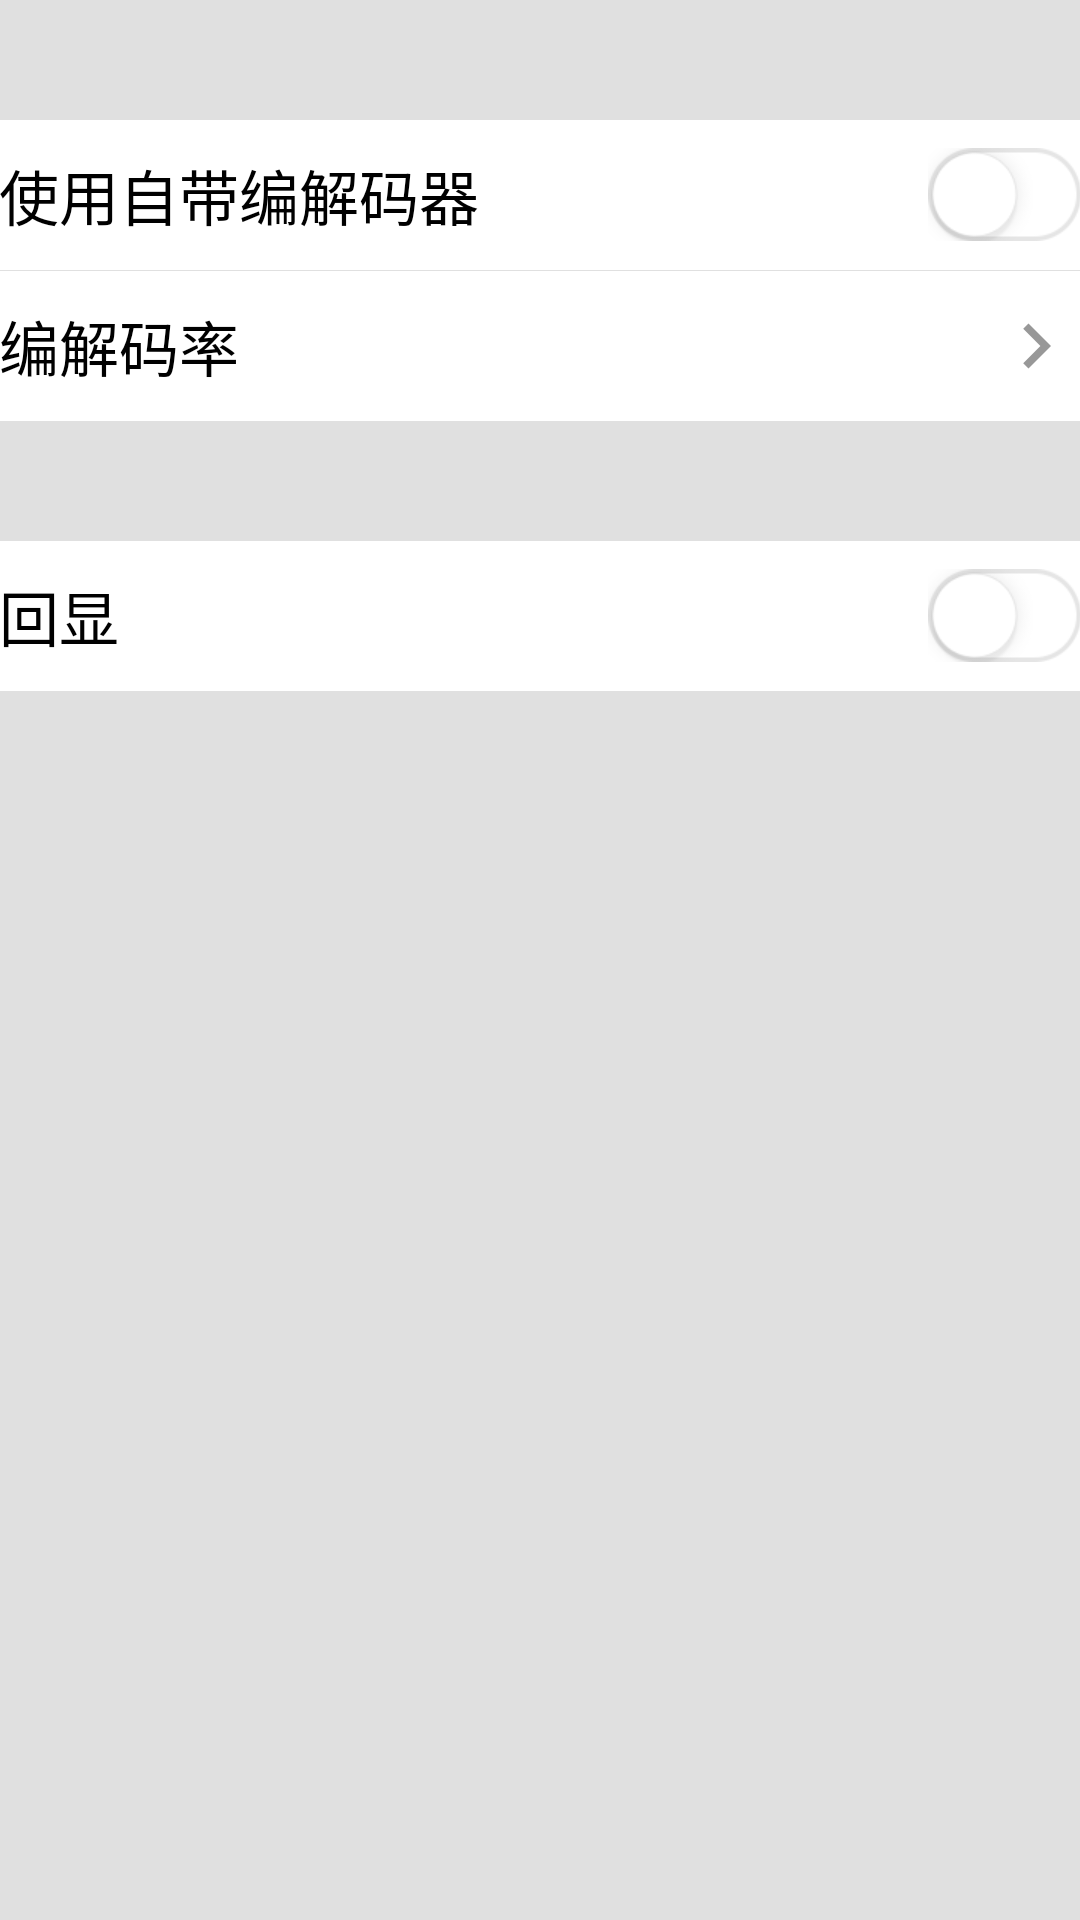

Locate icon controls on the screen. Image size 1080w x 1920h, boxes as (x1, y1, x2, y2).
chevron right: (1023, 323, 1051, 369)
select settings switch: (928, 148, 1080, 241), (928, 569, 1080, 662)
